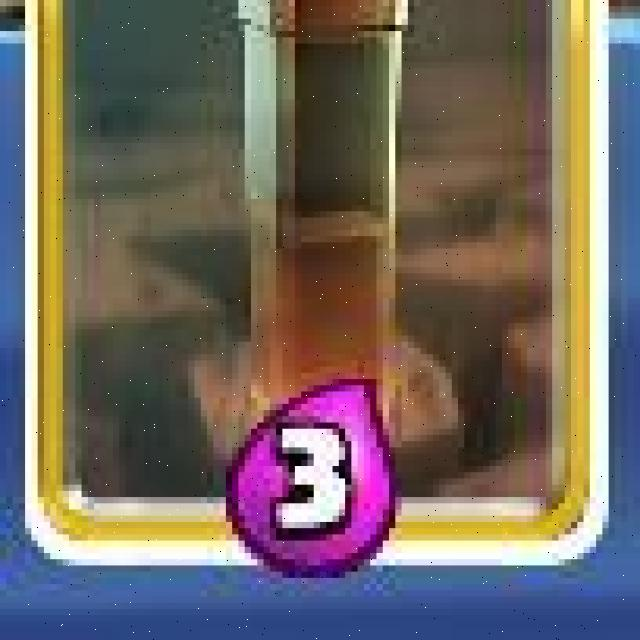Earthquake: (20, 0, 617, 572)
